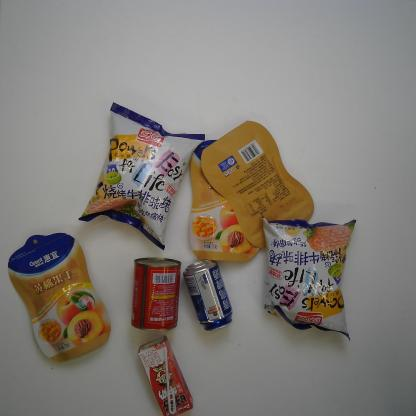Alcohol: (184, 258, 235, 333)
Canned Food: (130, 257, 182, 332)
Dried Fruit: (200, 119, 316, 250), (5, 230, 113, 365), (188, 137, 260, 264)
Milk: (138, 336, 194, 416)
Puffed Food: (76, 100, 206, 252), (257, 211, 359, 344)
